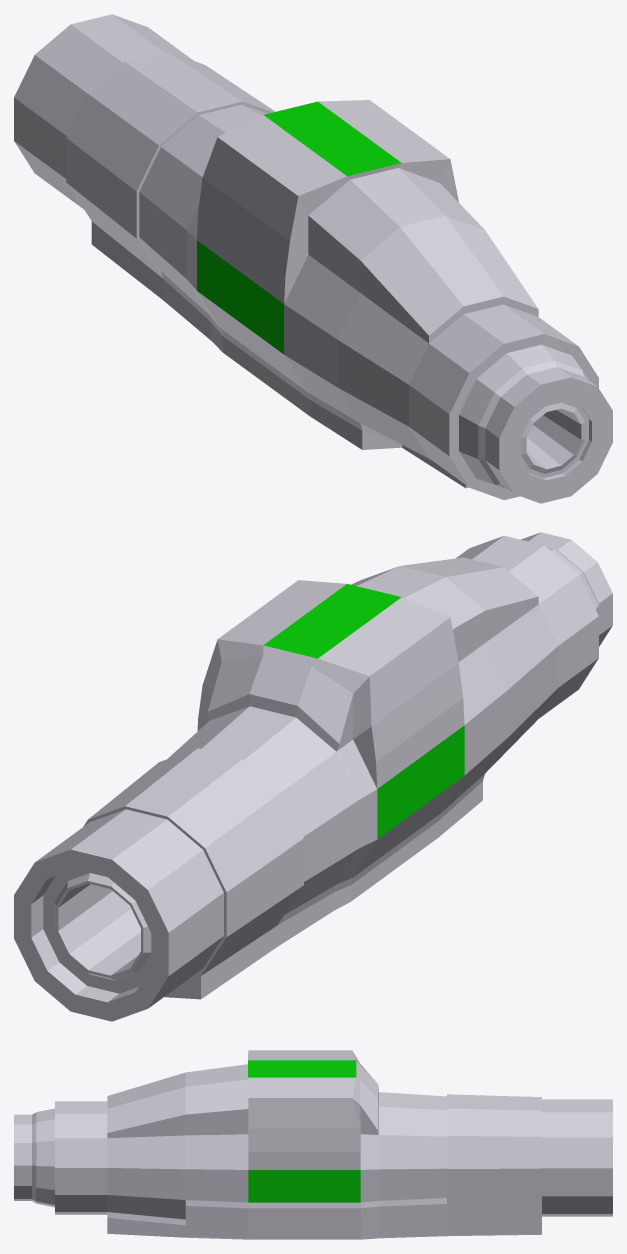
Rendered from Telescope.fbx.
3 renders of one model, top to bottom at view 1: azimuth 30°, elevation 25°; view 2: azimuth 150°, elevation 25°; view 3: azimuth 270°, elevation 25°, orthographic. The views are drawn at different scales.
Visible parts, largest first — view 1: Telescope; view 2: Telescope; view 3: Telescope.
Boxes of the visible parts, x1,y1,x2,y2 form: Telescope: (14,14,612,503); Telescope: (14,532,612,1021); Telescope: (14,1050,612,1239).
Bounding box in the file's own units: 1.95 × 2.45 × 8.62.
